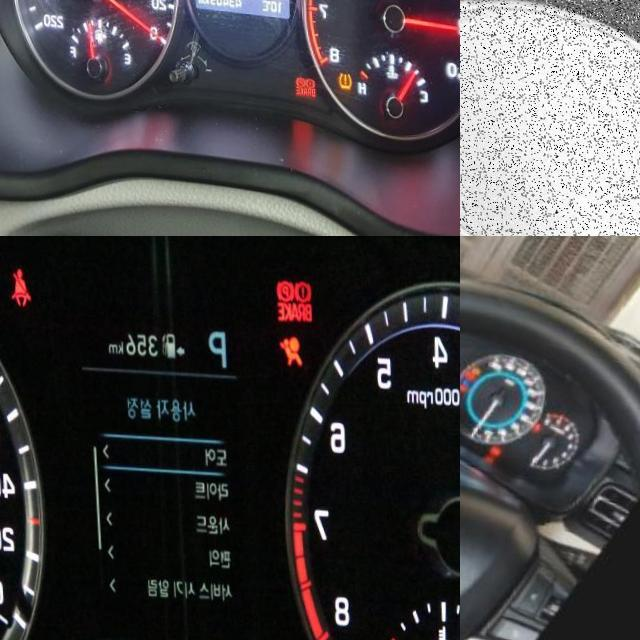Engine cooling system: (465, 369, 474, 377)
